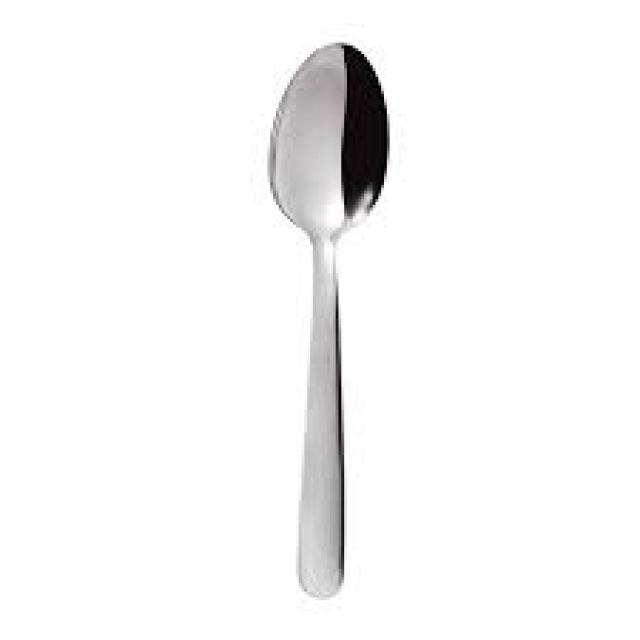spoon: (270, 43, 390, 603)
